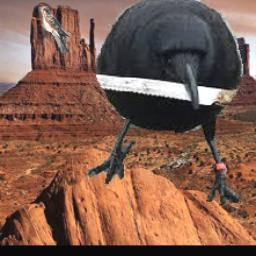Crow: (87, 0, 248, 209)
Cuckoo: (39, 6, 71, 53)
